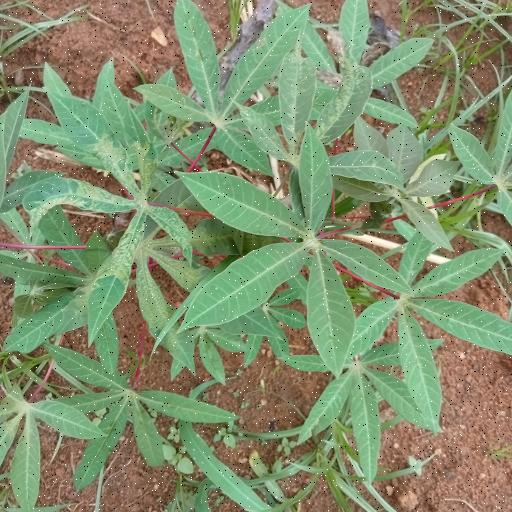Cassava_Mosaic: (188, 129, 404, 373), (25, 94, 195, 330), (142, 0, 344, 166)
